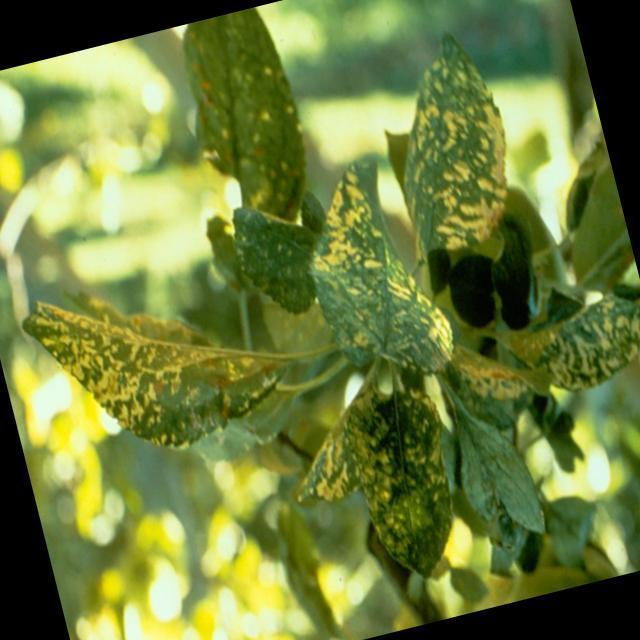Mosaic Virus: (11, 246, 270, 487), (294, 140, 460, 402), (375, 31, 527, 264), (338, 382, 460, 569), (493, 269, 640, 399), (284, 421, 361, 504)
